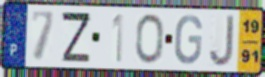1: (112, 13, 125, 63)
7: (30, 10, 56, 63)
G: (173, 14, 204, 66)
J: (208, 14, 236, 69)
O: (135, 12, 165, 66)
Z: (60, 10, 92, 64)
